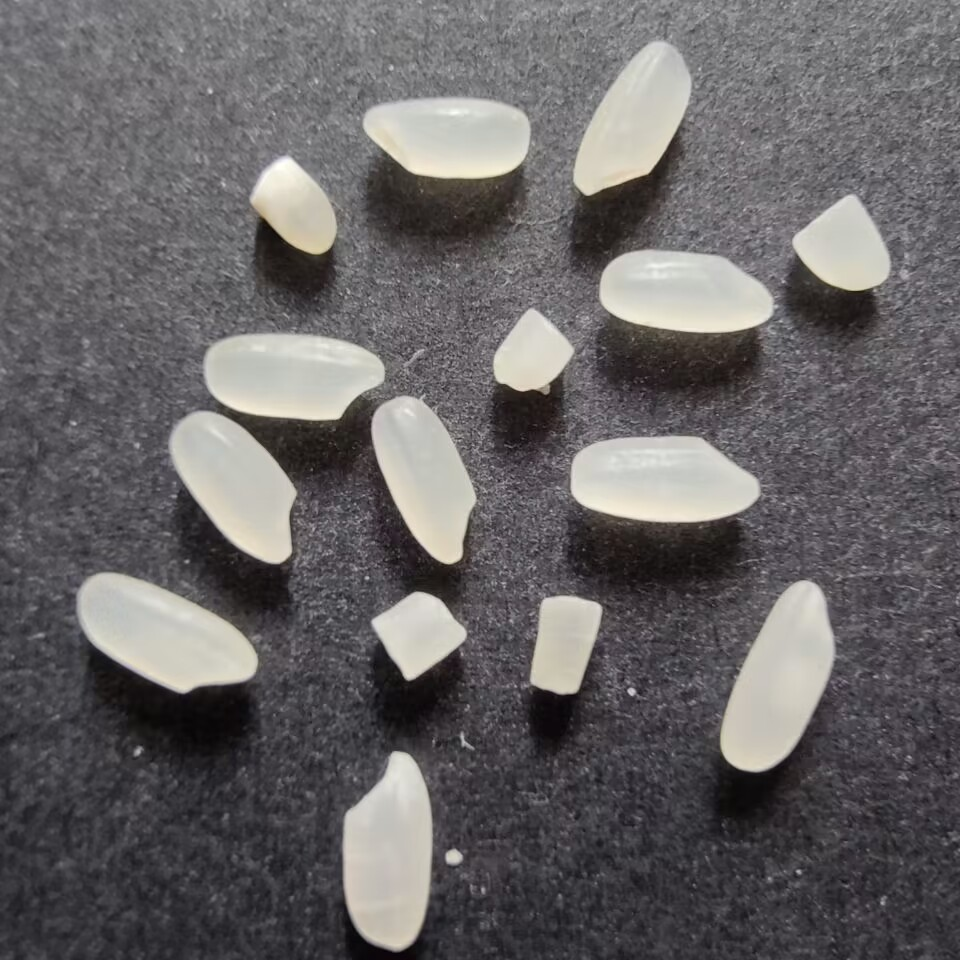broken: (787, 189, 900, 293), (368, 588, 473, 686), (247, 153, 338, 258), (526, 592, 606, 699), (487, 303, 578, 397)
rice: (718, 574, 842, 779), (71, 571, 265, 696), (162, 406, 303, 568), (331, 748, 441, 953), (366, 392, 480, 572), (570, 35, 693, 201), (195, 329, 390, 426), (565, 432, 766, 522), (591, 247, 776, 334), (353, 95, 535, 180)
